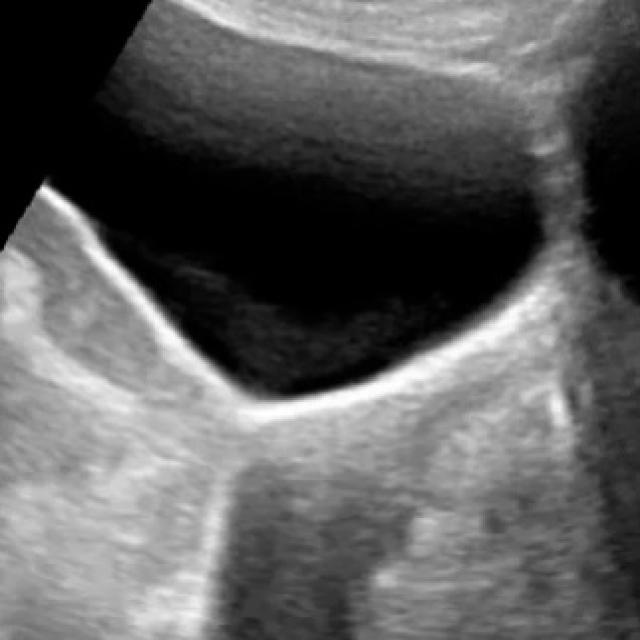bladder: (29, 0, 566, 430)
